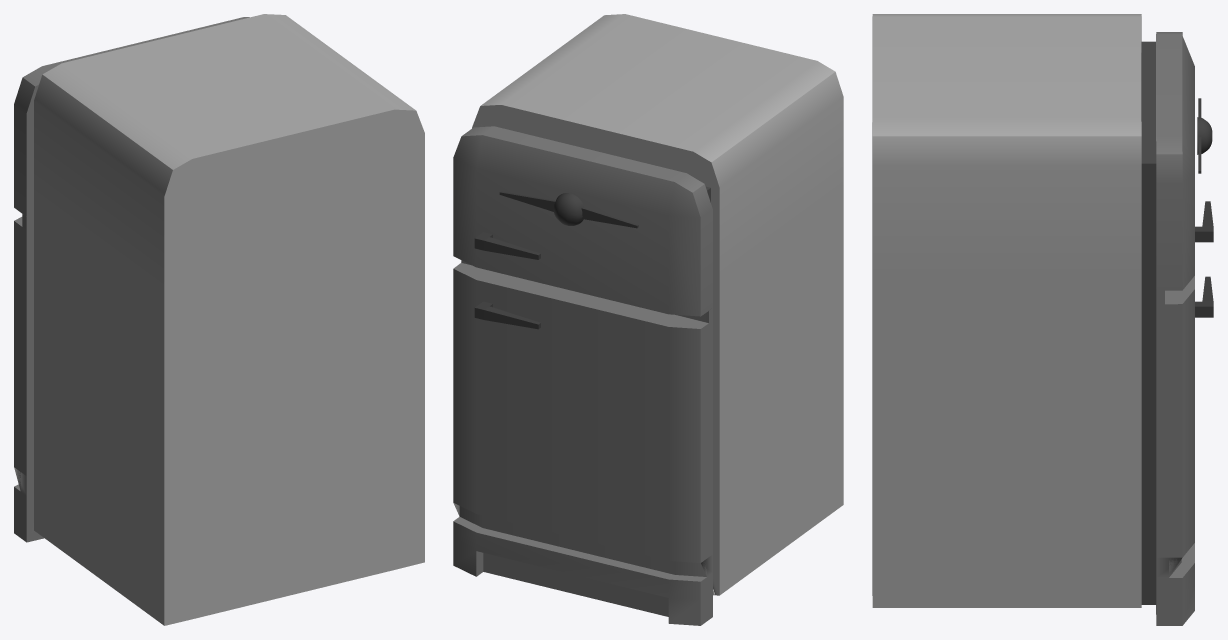
The model's file is FridgeModel.fbx.
3 renders of one model, left to right at view 1: azimuth 30°, elevation 25°; view 2: azimuth 150°, elevation 25°; view 3: azimuth 270°, elevation 25°, orthographic. The views are drawn at different scales.
Visible parts, largest first — view 1: FridgeModel; view 2: FridgeModel; view 3: FridgeModel.
Boxes of the visible parts, x1,y1,x2,y2 form: FridgeModel: [14, 14, 424, 625]; FridgeModel: [453, 14, 843, 625]; FridgeModel: [872, 14, 1213, 625].
Bounding box in the file's own units: 138 × 241 × 152.
